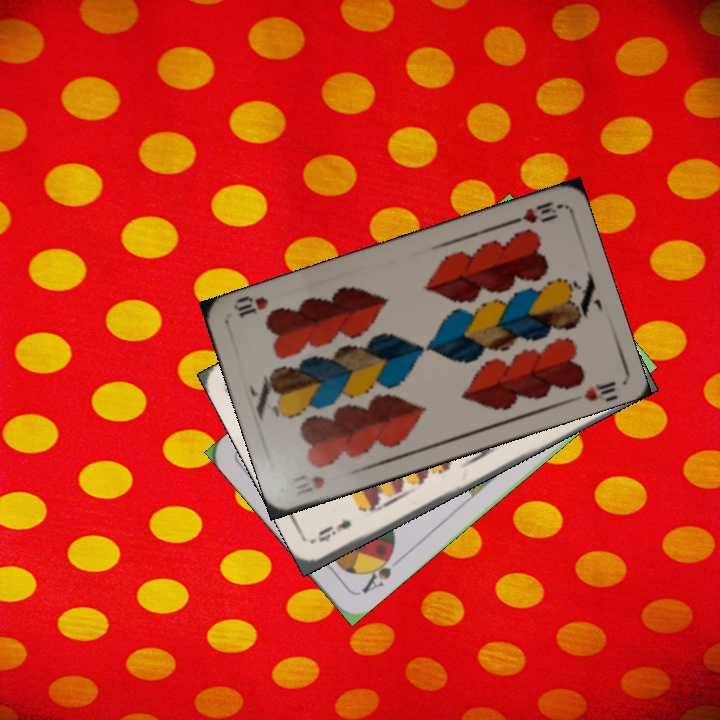E9: (314, 515, 354, 545)
H10: (504, 197, 562, 228), (292, 472, 327, 498)
SA: (358, 546, 397, 597)
